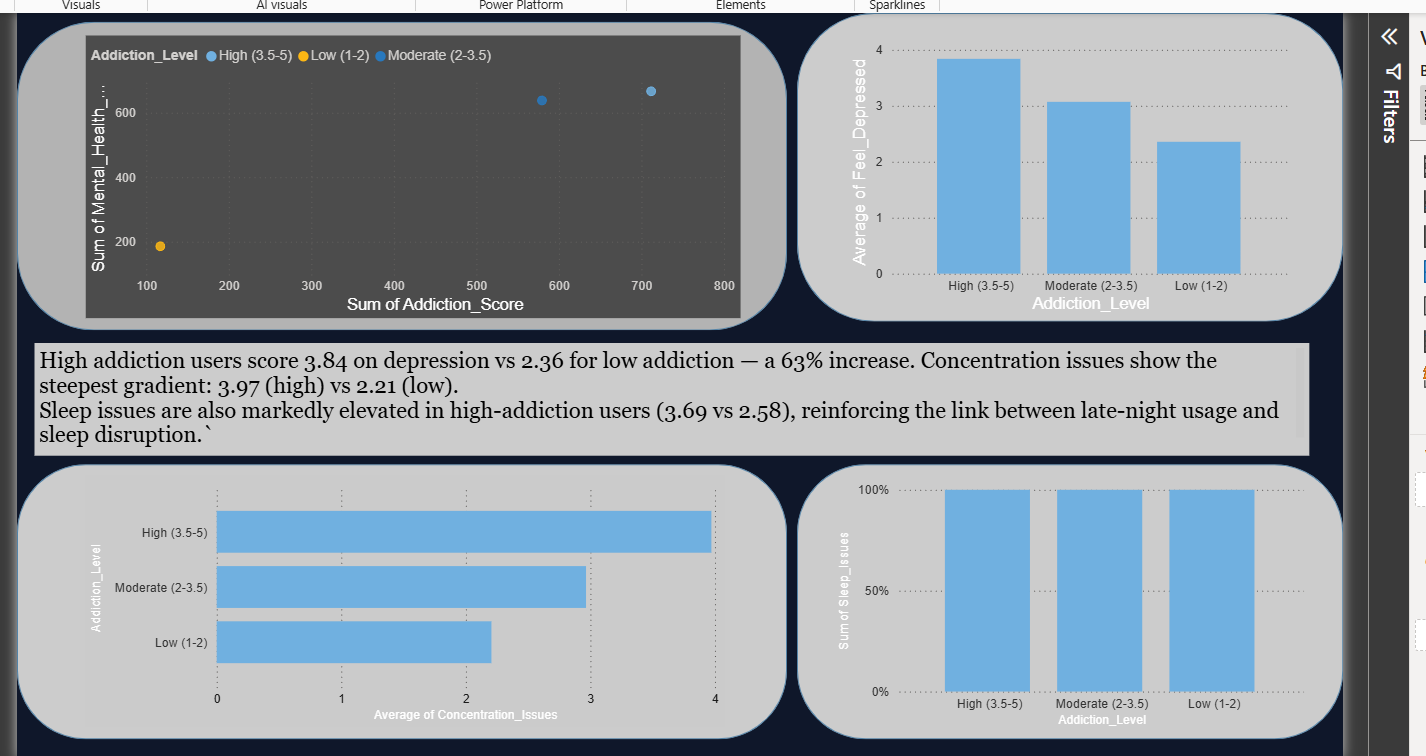

This screenshot's page, from the dashboard's own definition file:
{"tool":"powerbi","page":{"name":"Mental Health","canvas":[1280,720],"ordinal":2},"visuals":[{"type":"shape","box":[0,15.1,714.3,298.7],"z":0},{"type":"shape","box":[0,425.3,714.3,294.5],"z":1},{"type":"shape","box":[726.7,425.3,553.3,294.5],"z":2},{"type":"shape","box":[726.7,15.1,542.3,294.5],"z":3},{"type":"clusteredBarChart","fields":{"Category":["Survey_Data.Addiction_Level"],"Y":["Avg(Survey_Data.Concentration_Issues)"]},"box":[66.1,425.3,594.6,294.5],"z":5},{"type":"clusteredColumnChart","fields":{"Category":["Survey_Data.Addiction_Level"],"Y":["Avg(Survey_Data.Feel_Depressed)"]},"box":[755.6,24.8,499.6,262.9],"z":6},{"type":"clusteredColumnChart","fields":{"Category":["Survey_Data.Addiction_Level"],"Y":["Sum(Survey_Data.Sleep_Issues)"]},"box":[769.4,425.3,485.8,289],"z":7},{"type":"textbox","box":[0,313.8,1269,103.2],"z":8},{"type":"scatterChart","fields":{"X":["Sum(Survey_Data.Addiction_Score)"],"Y":["Sum(Survey_Data.Mental_Health_Score)"],"Series":["Survey_Data.Addiction_Level"]},"box":[42.7,19.3,618,290.4],"z":9}]}

Visuals, with their boxes on the page's 1280x720 design canvas (x1, y1, x2, y2). These are canvas units, not pixel positions in the 1426x756 screenshot, which may show the page scaled, cropped or inside an application window:
shape: bbox=[0, 15, 714, 314]
shape: bbox=[0, 425, 714, 720]
shape: bbox=[727, 425, 1280, 720]
shape: bbox=[727, 15, 1269, 310]
clusteredBarChart - Survey_Data.Addiction_Level x Avg(Survey_Data.Concentration_Issues): bbox=[66, 425, 661, 720]
clusteredColumnChart - Survey_Data.Addiction_Level x Avg(Survey_Data.Feel_Depressed): bbox=[756, 25, 1255, 288]
clusteredColumnChart - Survey_Data.Addiction_Level x Sum(Survey_Data.Sleep_Issues): bbox=[769, 425, 1255, 714]
textbox: bbox=[0, 314, 1269, 417]
scatterChart - Sum(Survey_Data.Addiction_Score) x Sum(Survey_Data.Mental_Health_Score): bbox=[43, 19, 661, 310]
